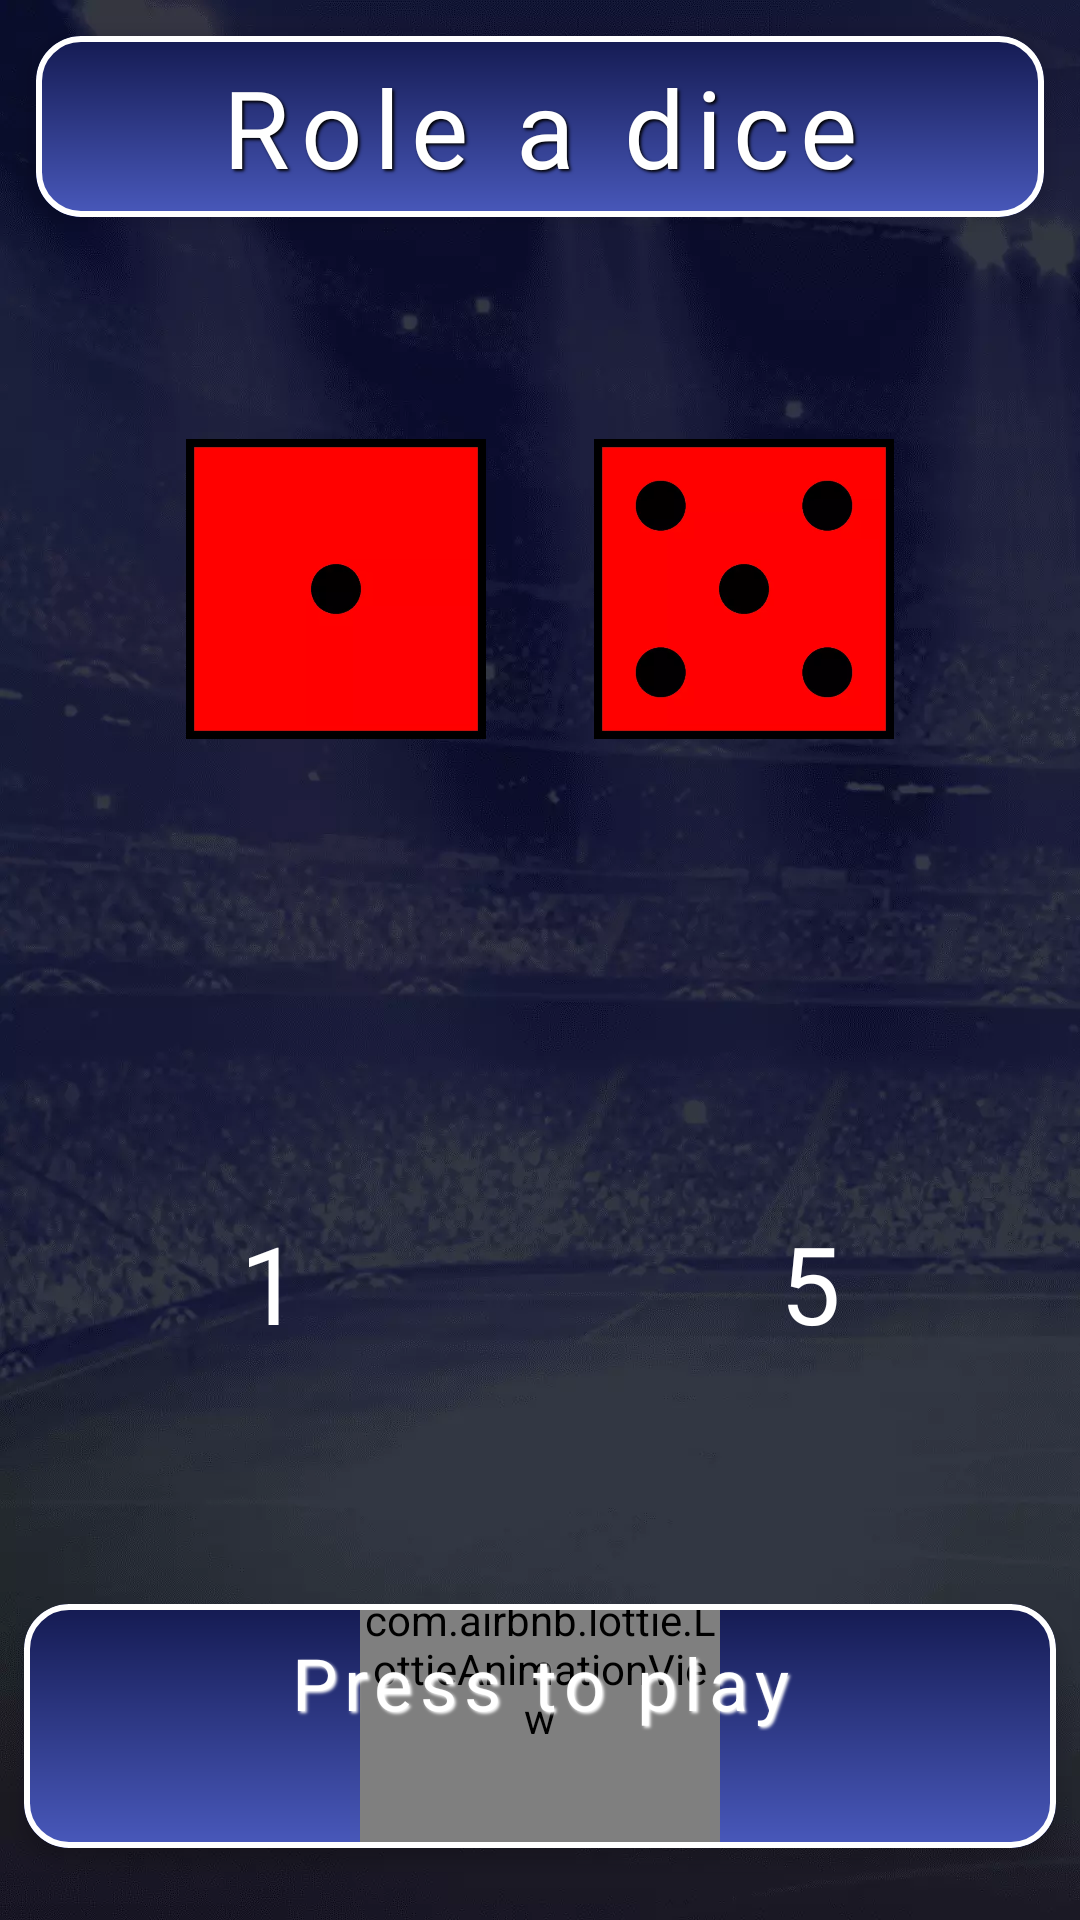

Icon bounding boxes for this 1080px×1920px phone screenshot, format detection(x1, y1, x2, y2):
dice: detection(186, 439, 486, 739), detection(594, 439, 894, 739)
